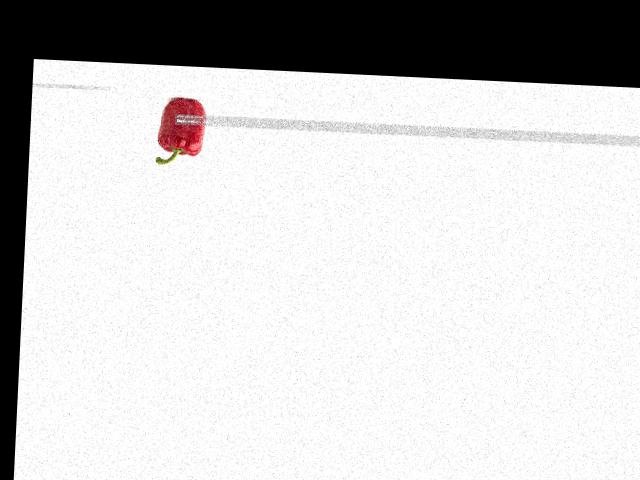bell_pepper: (149, 98, 210, 170)
